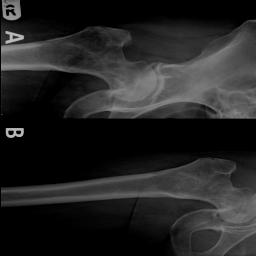cancer: (1, 27, 138, 102), (150, 157, 242, 223)
